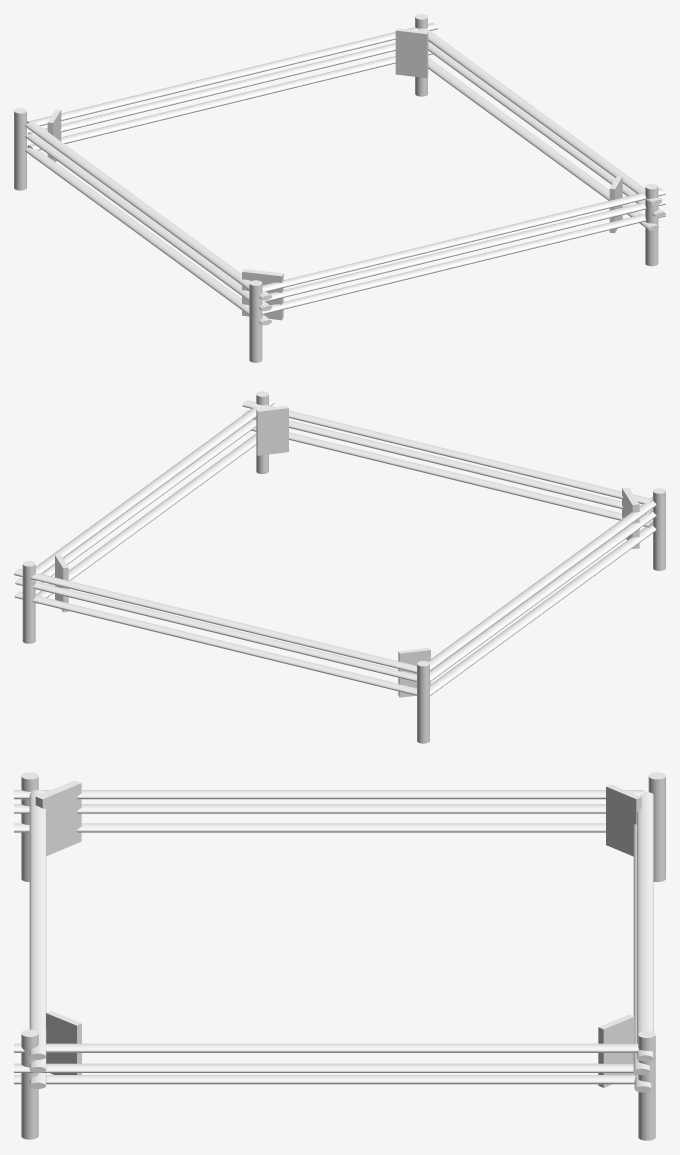
Rendered from FieldSide.obj.
3 views of the same model, one above another, from view 1: azimuth 30°, elevation 25°; view 2: azimuth 150°, elevation 25°; view 3: azimuth 270°, elevation 25° (orthographic). The views are drawn at different scales.
Visible parts, largest first — view 1: Rope_2_Cylinder.005; view 2: Rope_2_Cylinder.005; view 3: Rope_2_Cylinder.005.
Boxes of the visible parts, box(x1,y1,x2,y2) form: Rope_2_Cylinder.005: box(14, 14, 665, 362); Rope_2_Cylinder.005: box(14, 391, 665, 743); Rope_2_Cylinder.005: box(14, 772, 665, 1140).
Size of the model in its own units: 148 by 26.4 by 151.
Materials: 1 (1 with a texture image).
